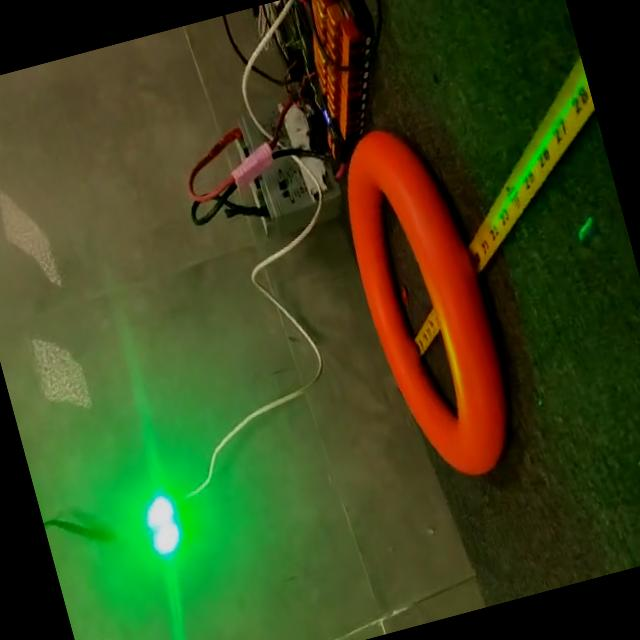note: (323, 111, 530, 496)
